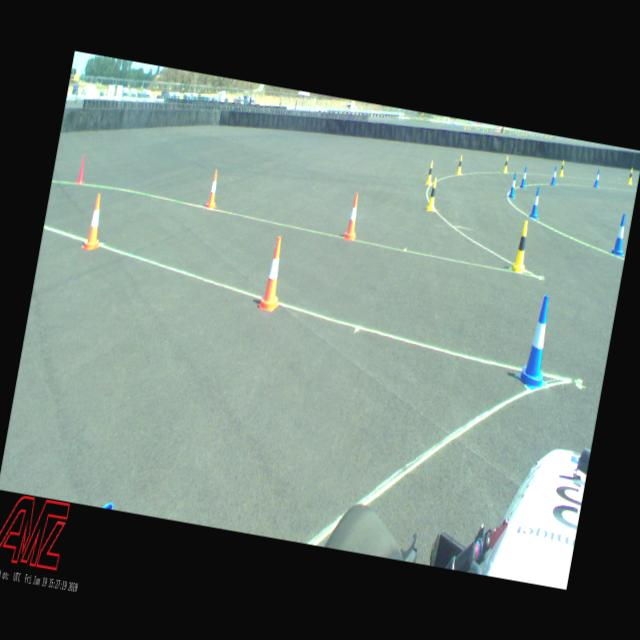blue_cone: (514, 292, 560, 391), (610, 213, 630, 256), (529, 185, 542, 218), (508, 172, 518, 198), (520, 165, 528, 188), (593, 168, 601, 188), (550, 166, 558, 184)
orange_cone: (257, 234, 290, 312), (80, 192, 108, 252), (342, 192, 363, 241), (205, 169, 222, 209)
unknown_cone: (74, 152, 88, 185)
yellow_cone: (509, 220, 534, 274), (426, 178, 439, 210), (425, 160, 435, 186), (456, 154, 464, 174), (502, 155, 510, 173), (558, 159, 566, 176), (628, 168, 634, 184)
